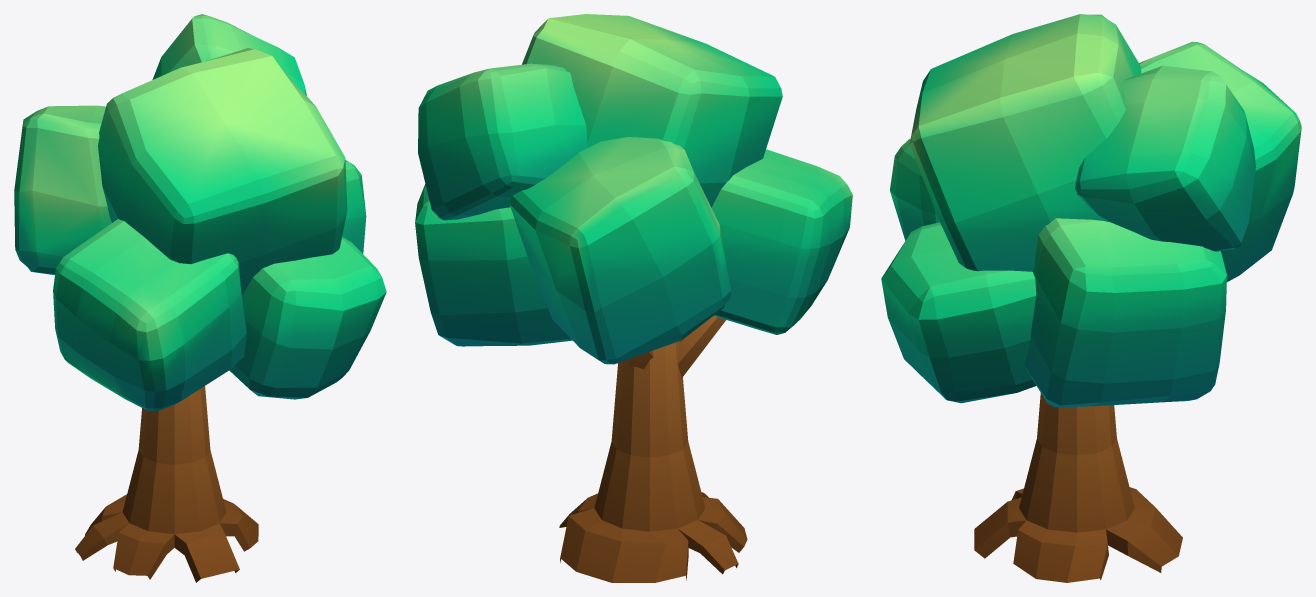
File: tree.fbx
The picture shows the model from 3 angles, left to right: view 1: azimuth 30°, elevation 25°; view 2: azimuth 150°, elevation 25°; view 3: azimuth 270°, elevation 25°; orthographic projection. The views are drawn at different scales.
Parts seen in each view (by area): view 1: Tree_Cube_Spring; view 2: Tree_Cube_Spring; view 3: Tree_Cube_Spring.
Part boxes in pixels (x1,y1,x2,y2): Tree_Cube_Spring: (14,14,386,582); Tree_Cube_Spring: (415,14,852,582); Tree_Cube_Spring: (881,14,1301,582).
Bounding box in the file's own units: 270 × 367 × 267.
Materials: 1 (1 with a texture image).
